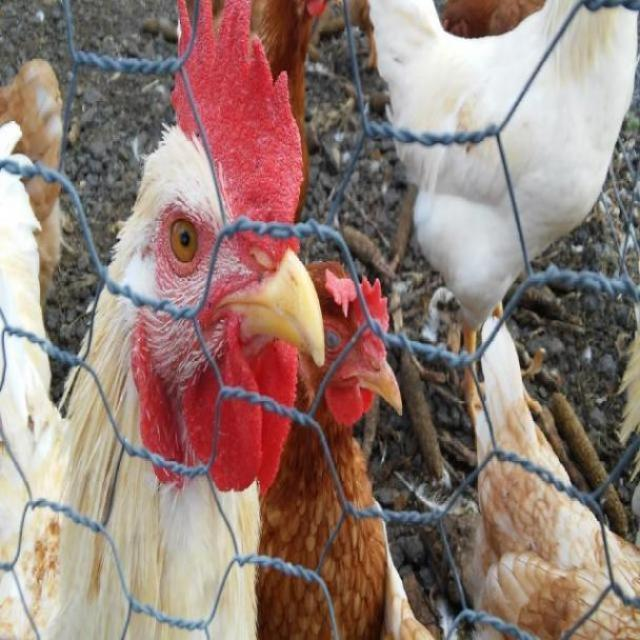Chicken: (0, 0, 639, 639), (365, 0, 635, 429)
